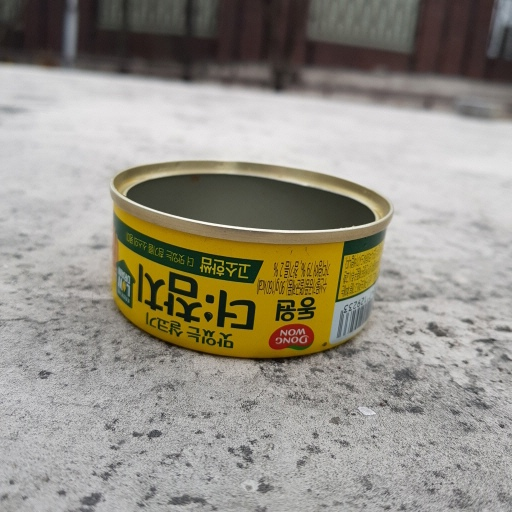Metal_1: (106, 156, 394, 361)
